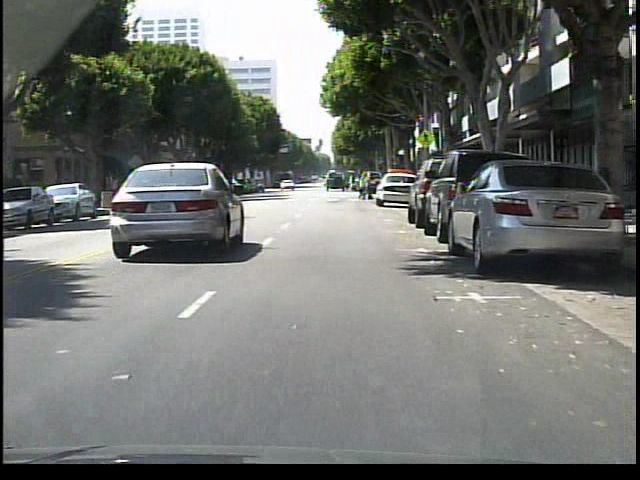person: (360, 171, 374, 201), (352, 170, 353, 190)
